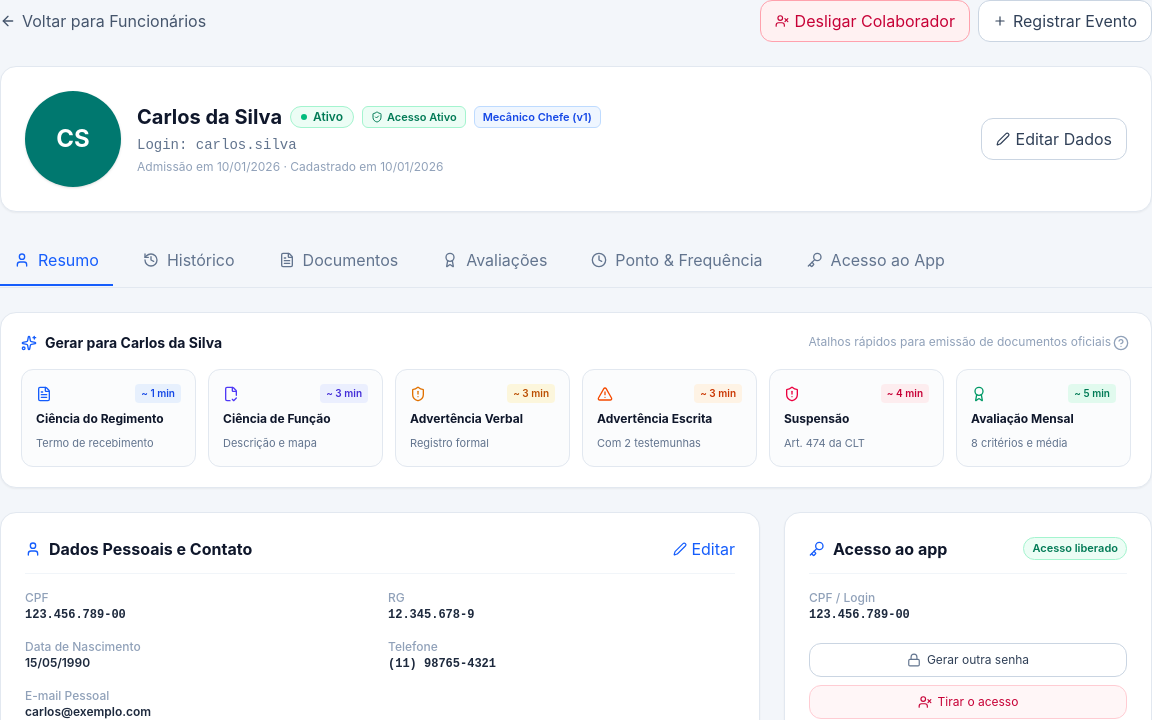
AdminEmployeeDetailPage › switches between tabs: Histórico, Documentos, Avaliações, Ponto and Acesso
The width and height of the screenshot is (1152, 720).
Expected: the heading "Carlos da Silva" is shown, [137,103,282,131]
Click Histórico tab
Click the button "Histórico" at (189, 261), box [129,236,249,286]
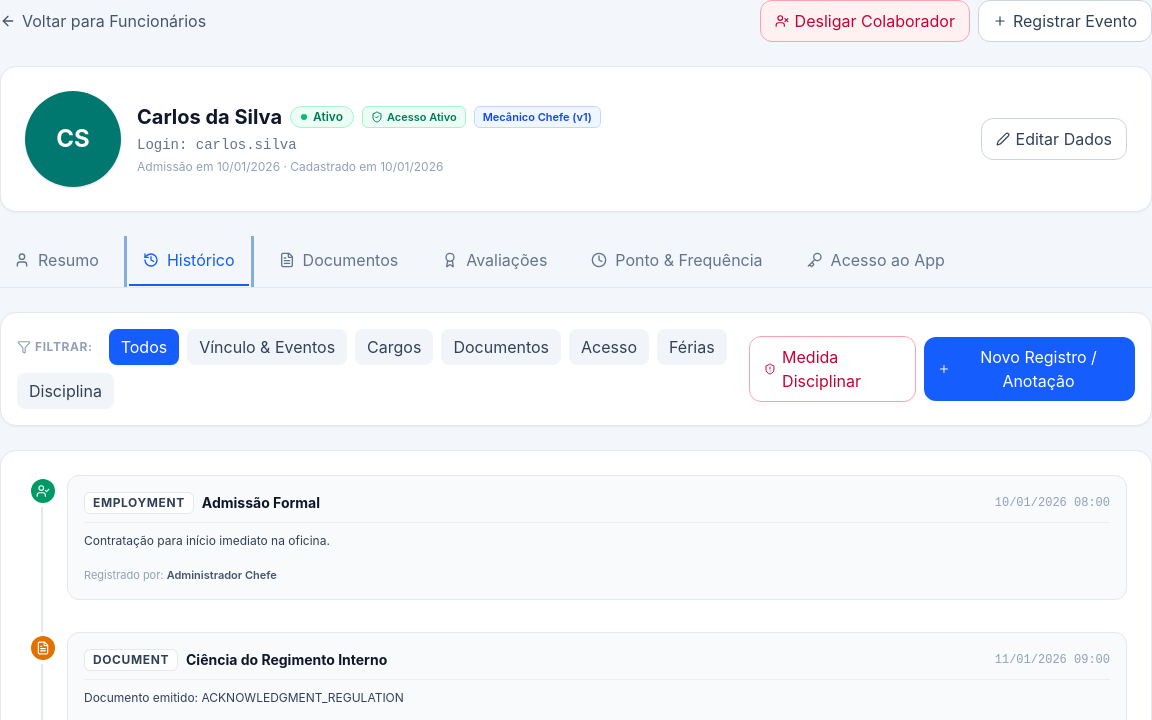
Now the heading "Admissão Formal" is shown, box [202,493,320,513]
Now the heading "Ciência do Regimento Interno" is shown, box [186,650,387,670]
Click Documentos tab
Click the 1st button "Documentos" at (338, 261), box [265,236,412,286]
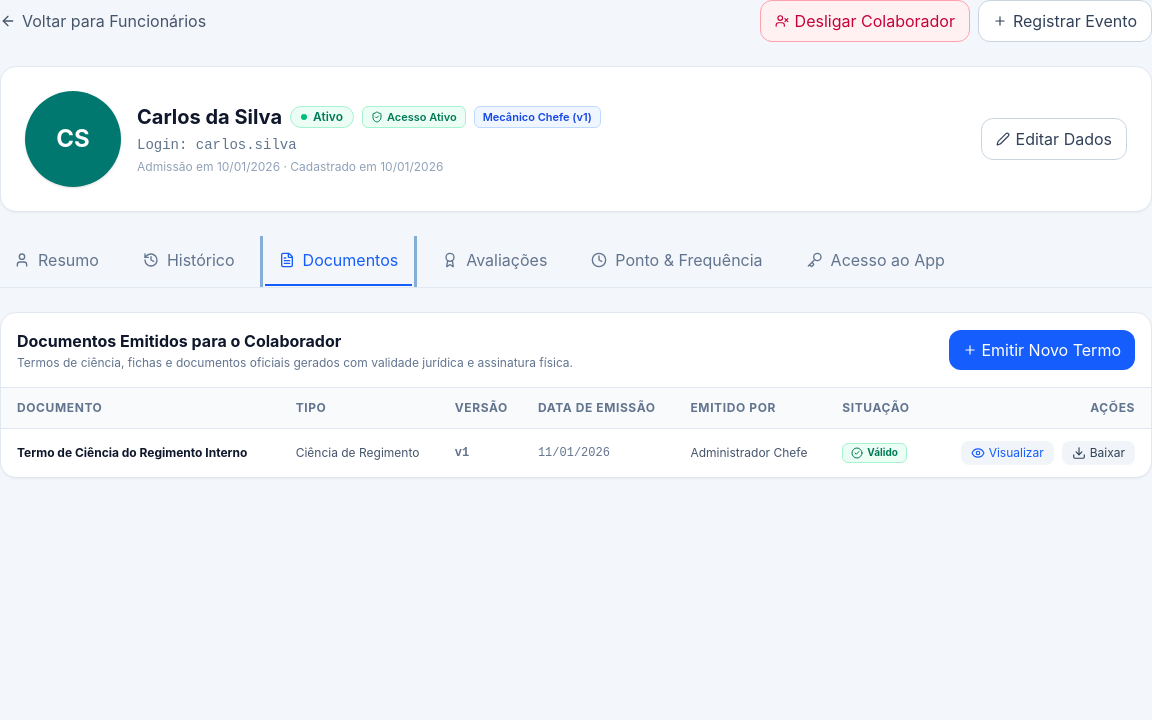
Now the text "Termo de Ciência do Regimento Interno" is shown, box [1,428,284,477]
Click Avaliações tab
Click the button "Avaliações" at (495, 261), box [428,236,561,286]
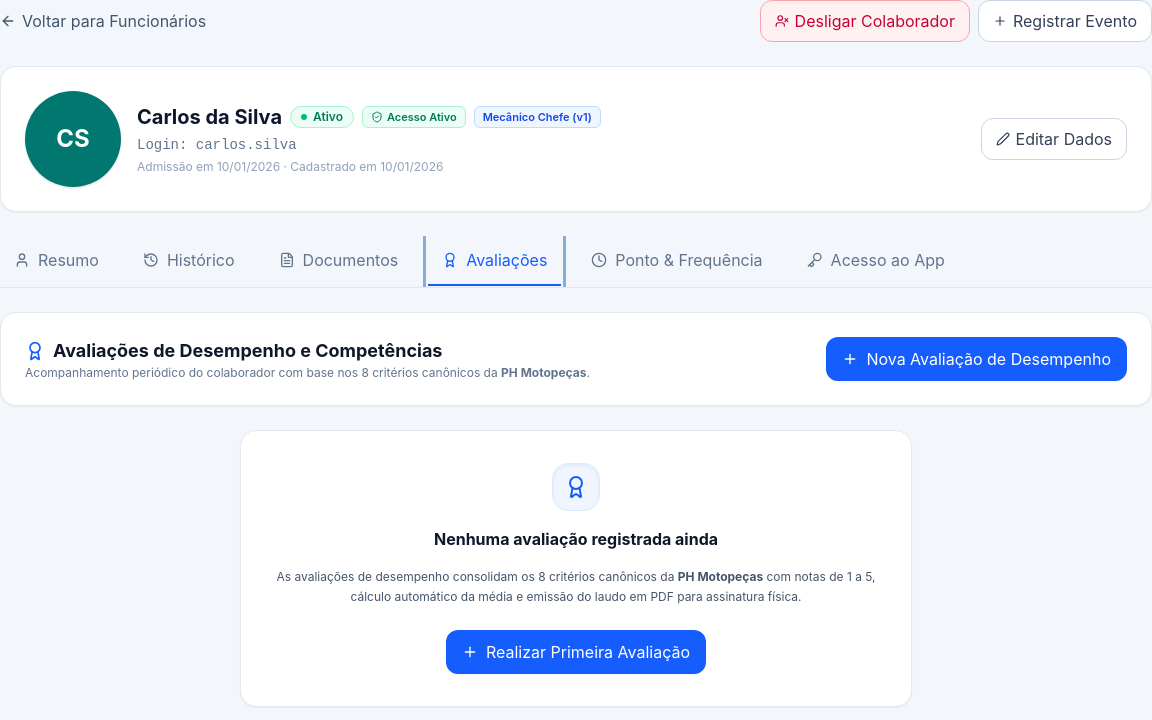
Now the heading "Avaliações de Desempenho e Competências" is shown, box [25,340,442,361]
Now the link "Nova Avaliação de Desempenho" is shown, box [826,337,1127,381]
Click Acesso ao App tab
Click the button "Acesso ao App" at (876, 261), box [793,236,959,286]
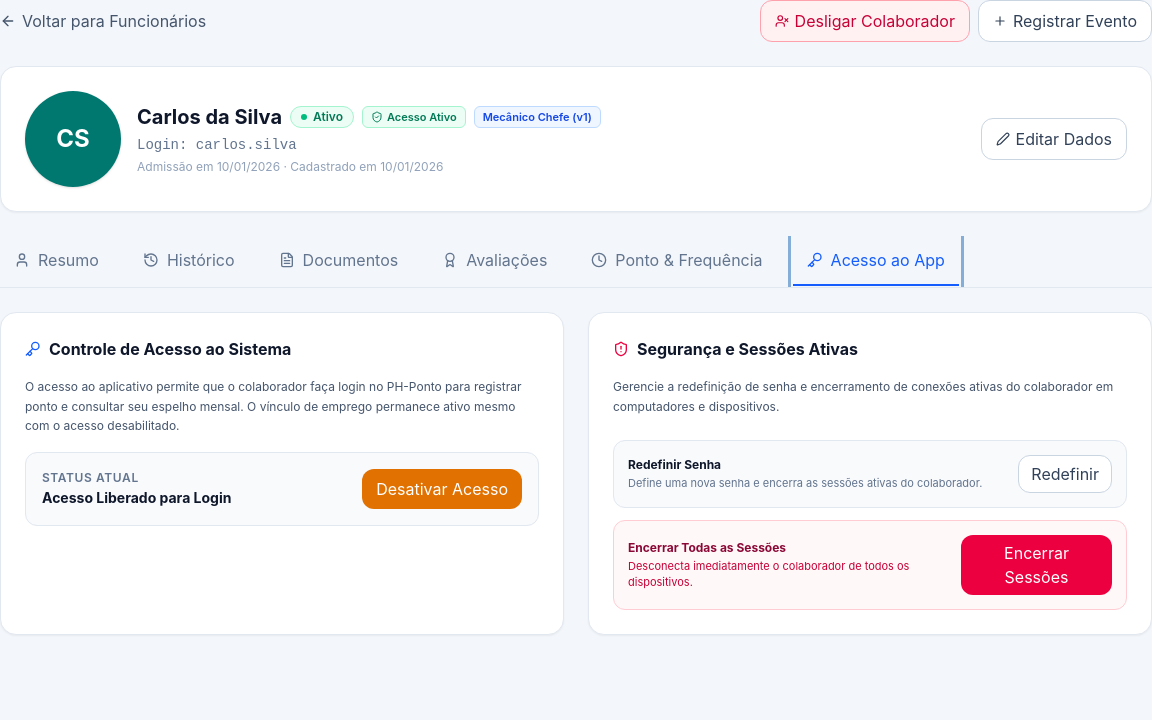
Now the heading "Controle de Acesso ao Sistema" is shown, box [25,339,291,359]
Now the text "Acesso Liberado para Login" is shown, box [42,488,231,508]
Now the button "Desativar Acesso" is shown, box [362,468,522,508]
Click Ponto & Frequência tab
Click the button "Ponto & Frequência" at (677, 261), box [577,236,777,286]
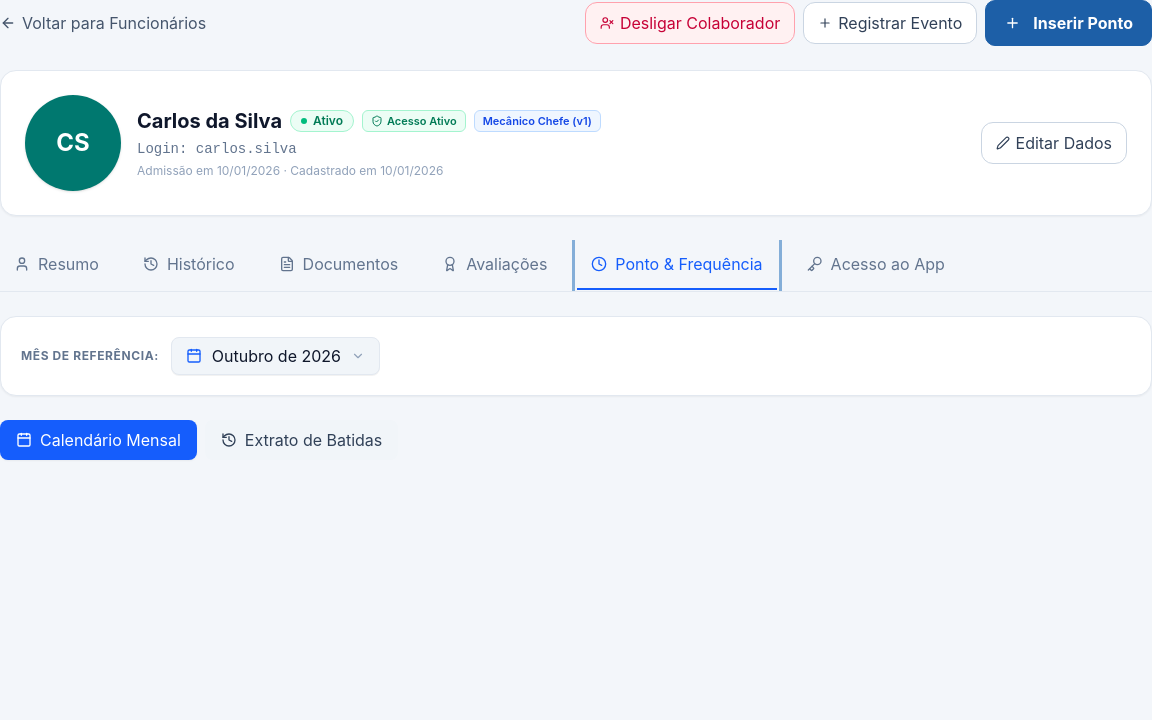
Now the text "Mês de Referência:" is shown, box [21,348,159,364]
